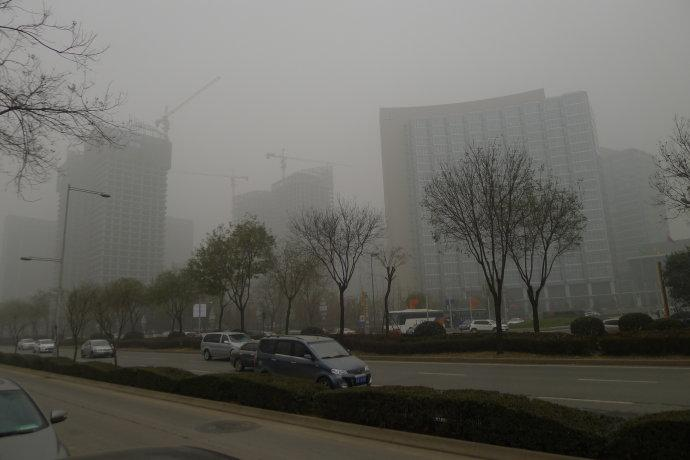bus: (383, 309, 446, 337)
car: (254, 333, 373, 392), (1, 373, 66, 460), (228, 340, 293, 372), (201, 331, 253, 363), (595, 318, 641, 336), (80, 339, 114, 358), (468, 319, 509, 334), (34, 338, 56, 353), (505, 316, 527, 328), (334, 328, 358, 338), (17, 338, 37, 350), (457, 319, 477, 329)
